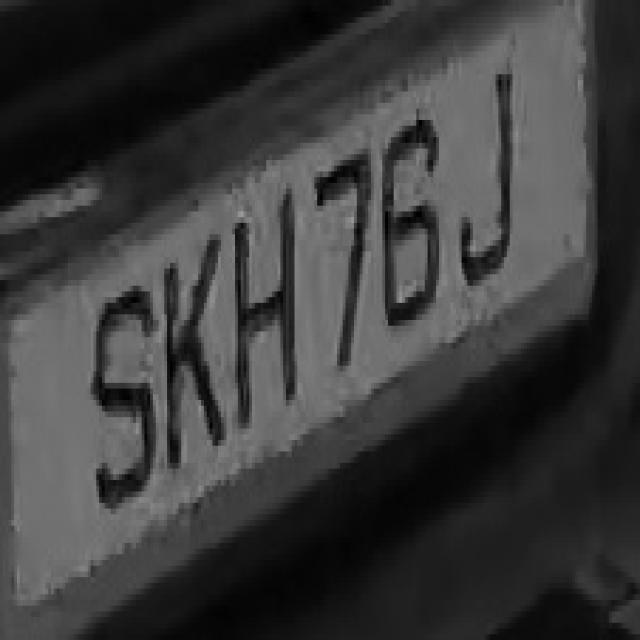6: (380, 109, 450, 320)
7: (306, 143, 379, 388)
H: (227, 183, 303, 434)
J: (456, 63, 518, 286)
K: (153, 223, 232, 486)
S: (82, 257, 156, 520)
